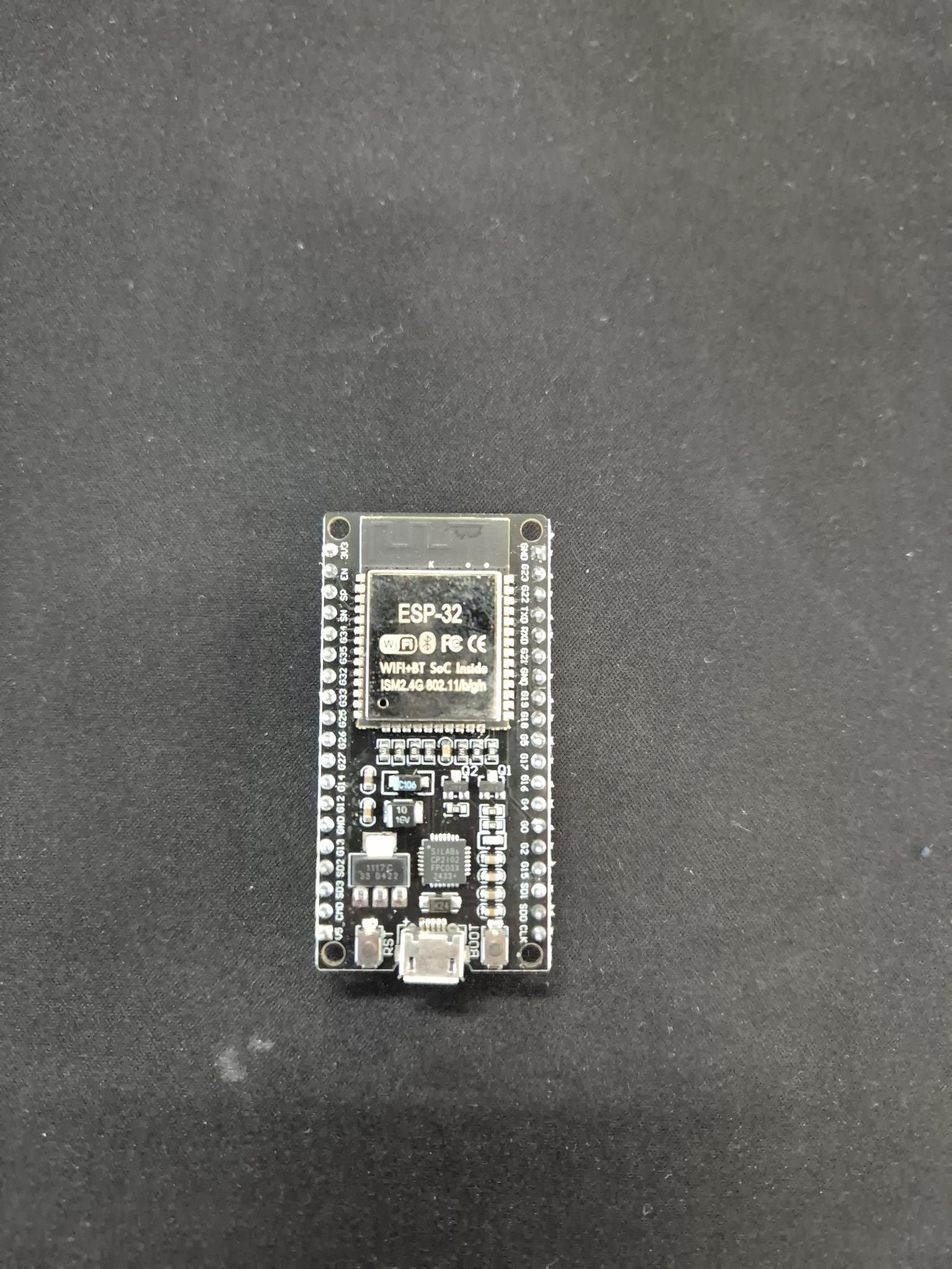esp32-dev: (314, 511, 560, 1003)
